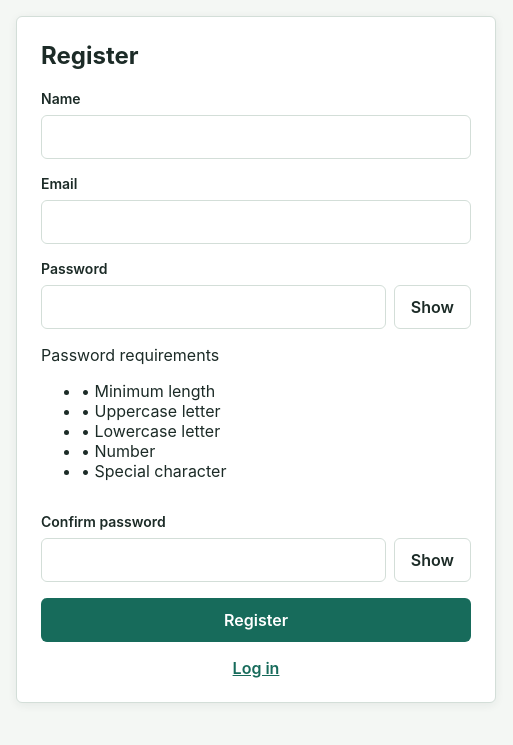
RegistrationPage › rejects a password below the configured minimum
Type "Renter Name" into the field labelled "Name".
click(256, 137); type("Renter Name")  # box [41, 115, 471, 159]
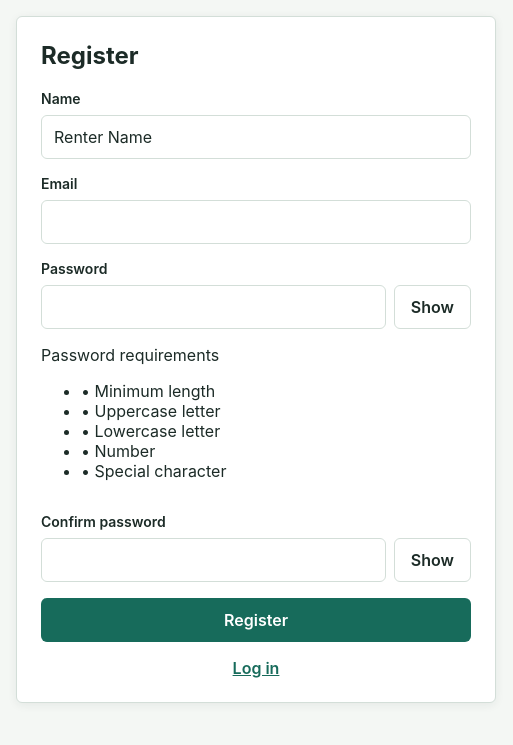
Type "renter@example.com" into the field labelled "Email".
click(256, 222); type("renter@example.com")  # box [41, 200, 471, 244]
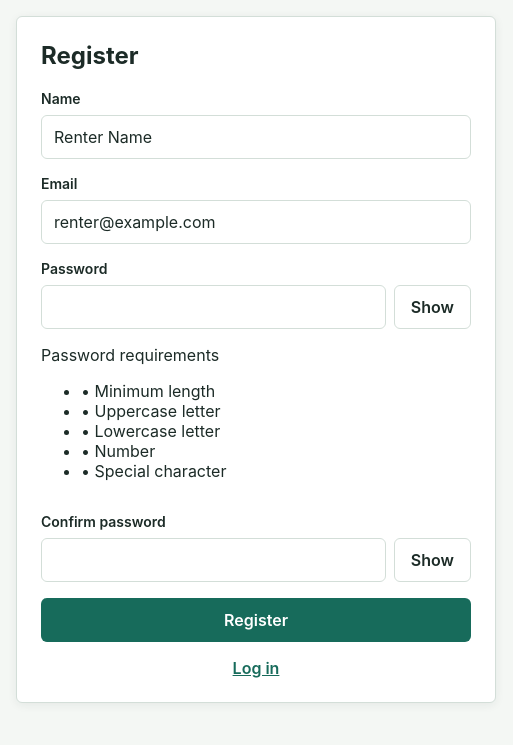
Type "short" into the password field labelled "Password".
click(213, 307); type("short")  # box [41, 285, 386, 329]
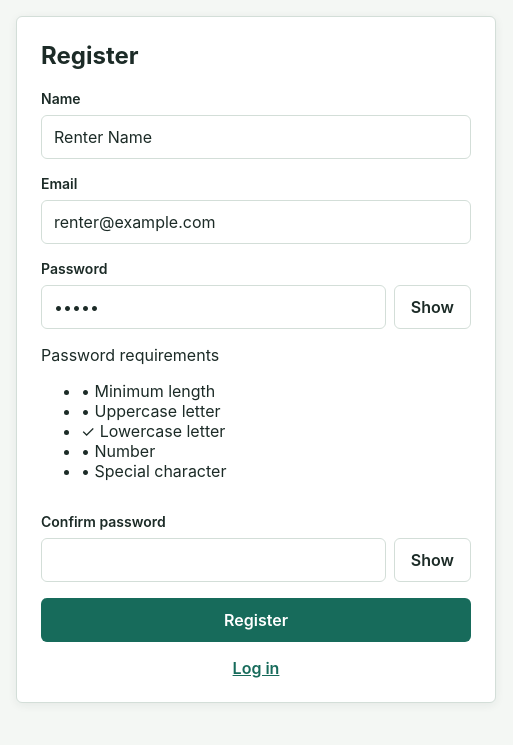
Type "short" into the password field labelled "Confirm password".
click(213, 560); type("short")  # box [41, 538, 386, 582]
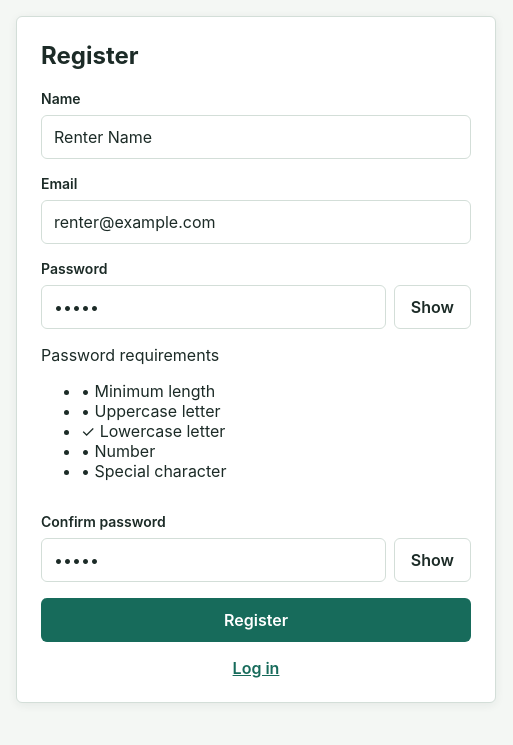
Click the button "Register".
click(256, 620)  # box [41, 598, 471, 642]
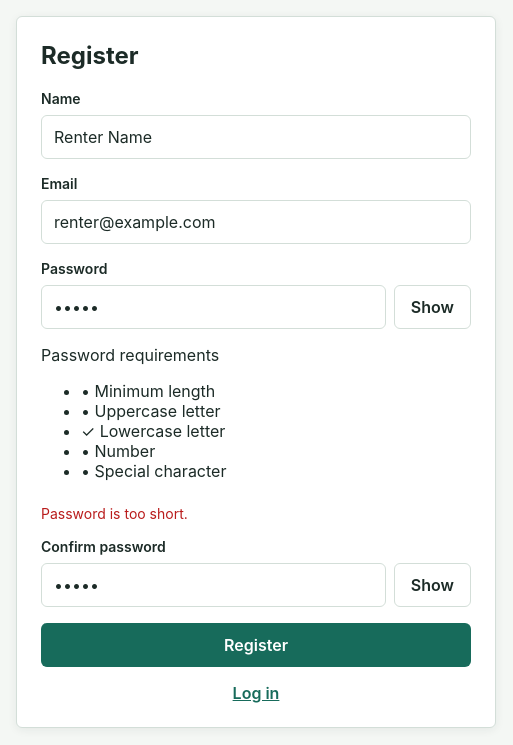
Expected: the text "Password is too short." is shown, [41, 505, 188, 522]
